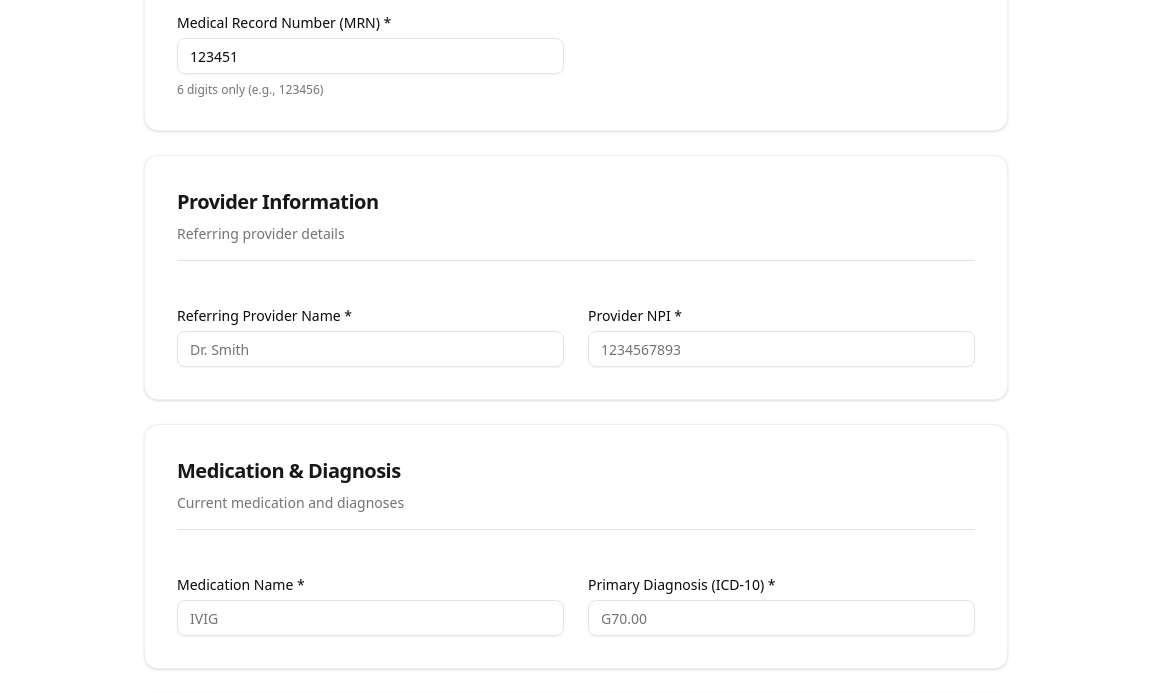
Test: PatientForm › form validation › validates NPI is exactly 10 digits
(page scrolled)
Type "123456789" into the field labelled "Provider NPI *" at {"x": 782, "y": 349}, box [588,331,975,367]
(page scrolled)
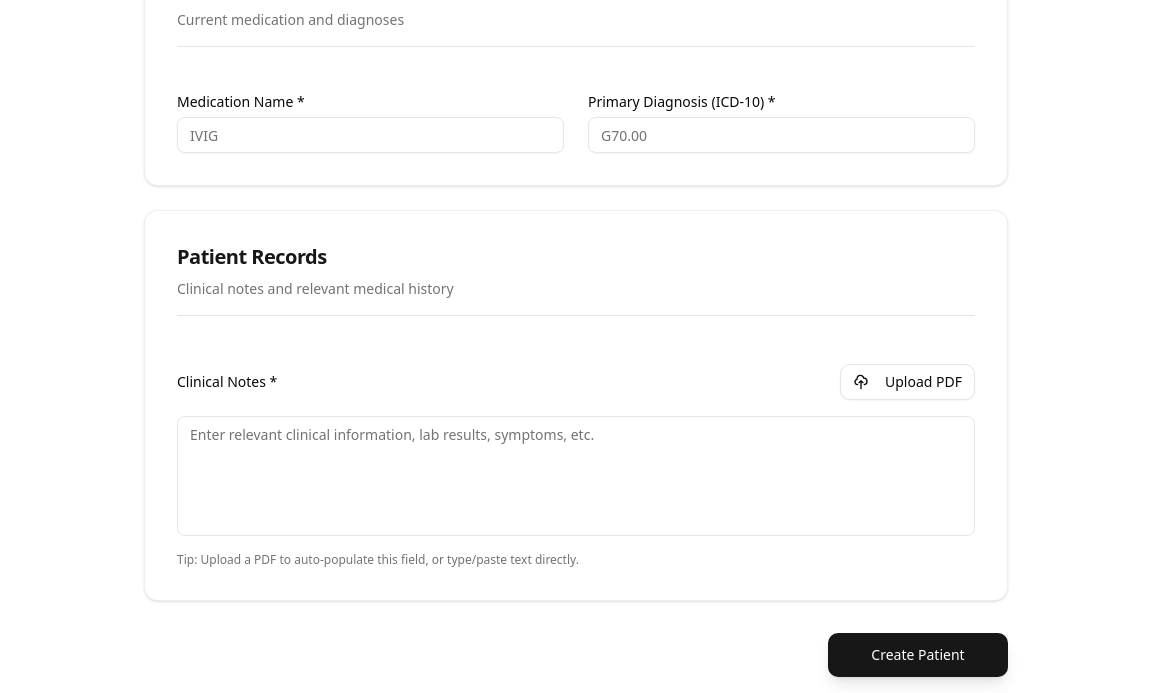
Click the button "Create Patient" at {"x": 918, "y": 655}, box [828,633,1008,677]
(page scrolled)
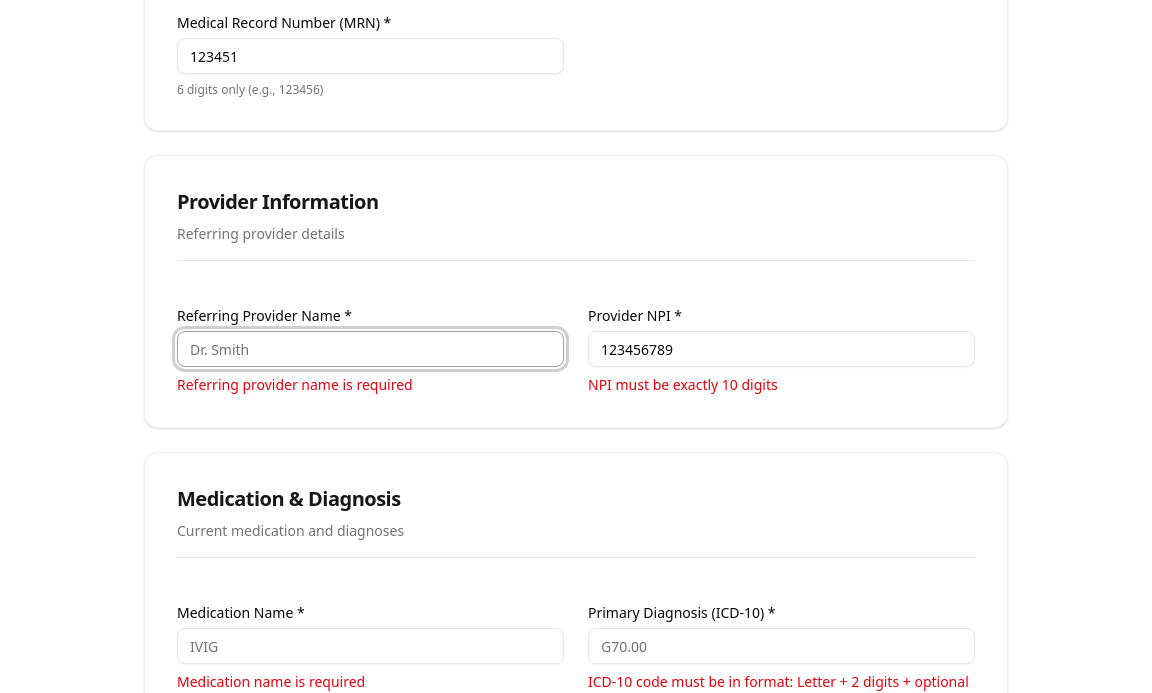
Now the text "NPI must be exactly 10 digits" is shown, box [588,375,778,394]
